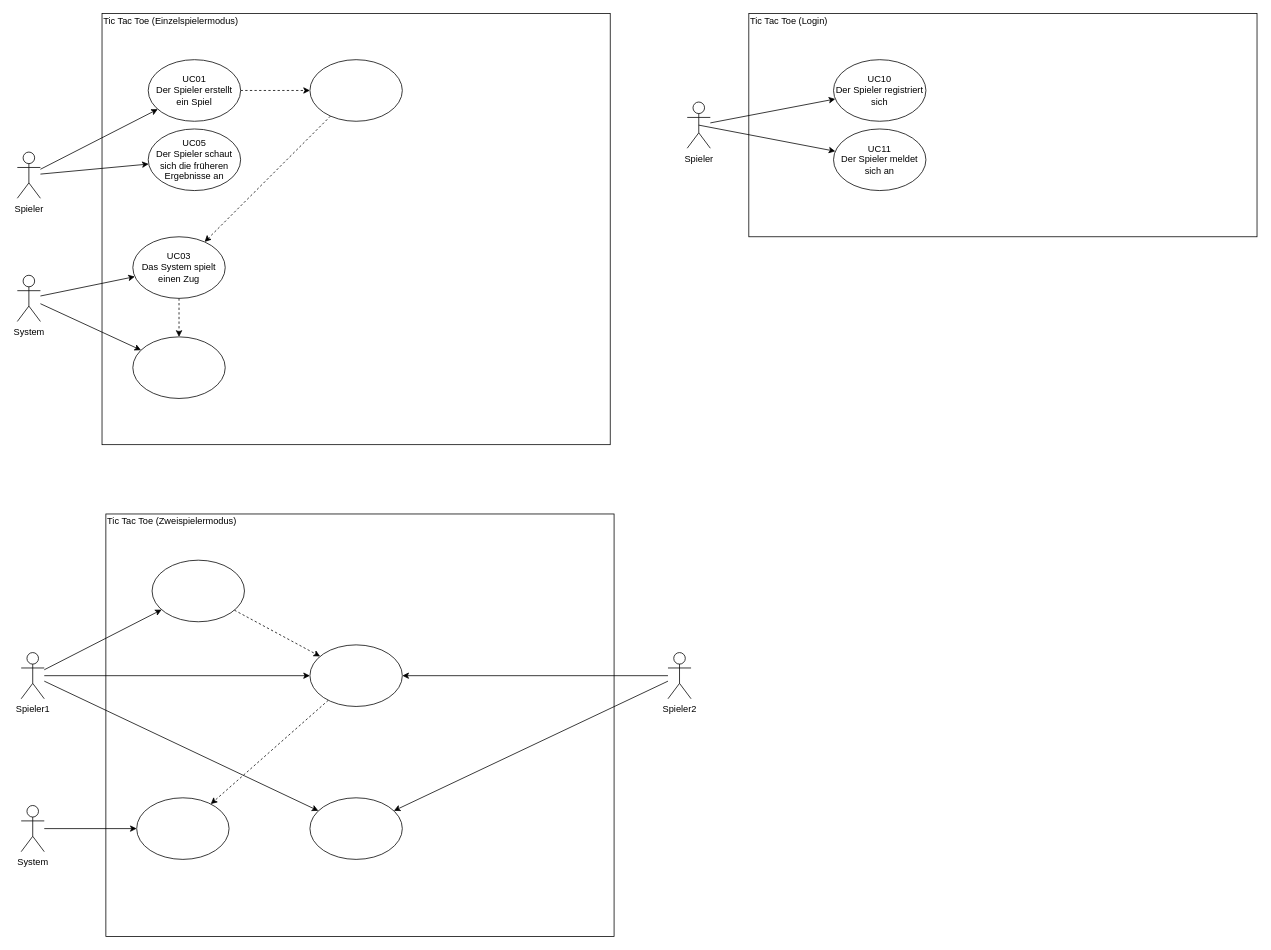
The diagram is 1271 pixels wide and 950 high, and some of its shapes have lost their labels. Here are the shapes that lost their labels. From the top down, the centre of each, then its label:
At point 355,90: "UC02 Der Spieler spielt einen Zug".
At point 178,367: "UC04 Das System beendet das Spiel".
At point 197,590: "UC06 Der Spieler1 erstellt ein Spiel".
At point 355,675: "UC07 Spieler1 und Spieler2 spielen abwechselnd bis einer gewonnen hat".
At point 182,828: "UC08 Das System beendet das Spiel".
At point 355,828: "UC09 Die Spieler schauen sich frühere Ergebnisse an".
